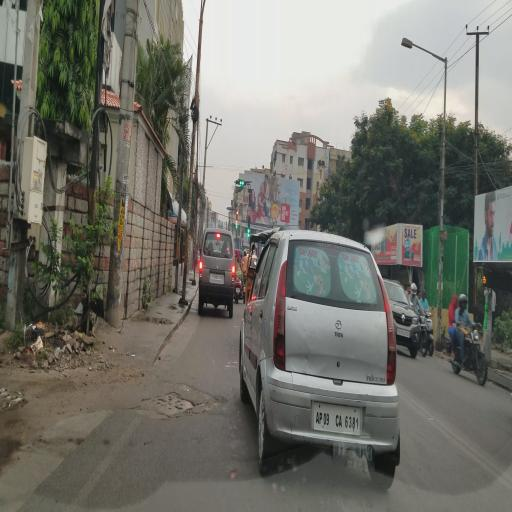street_light_0: (399, 25, 442, 65)
